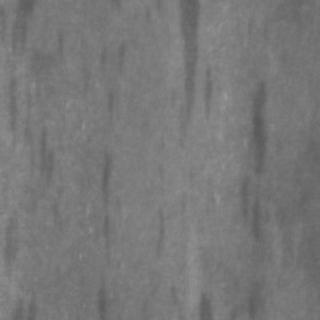inclusion: (82, 147, 125, 313), (167, 0, 205, 152), (240, 72, 274, 174), (21, 114, 57, 200), (232, 165, 264, 248), (146, 198, 170, 270), (90, 35, 122, 89), (98, 80, 118, 130)
